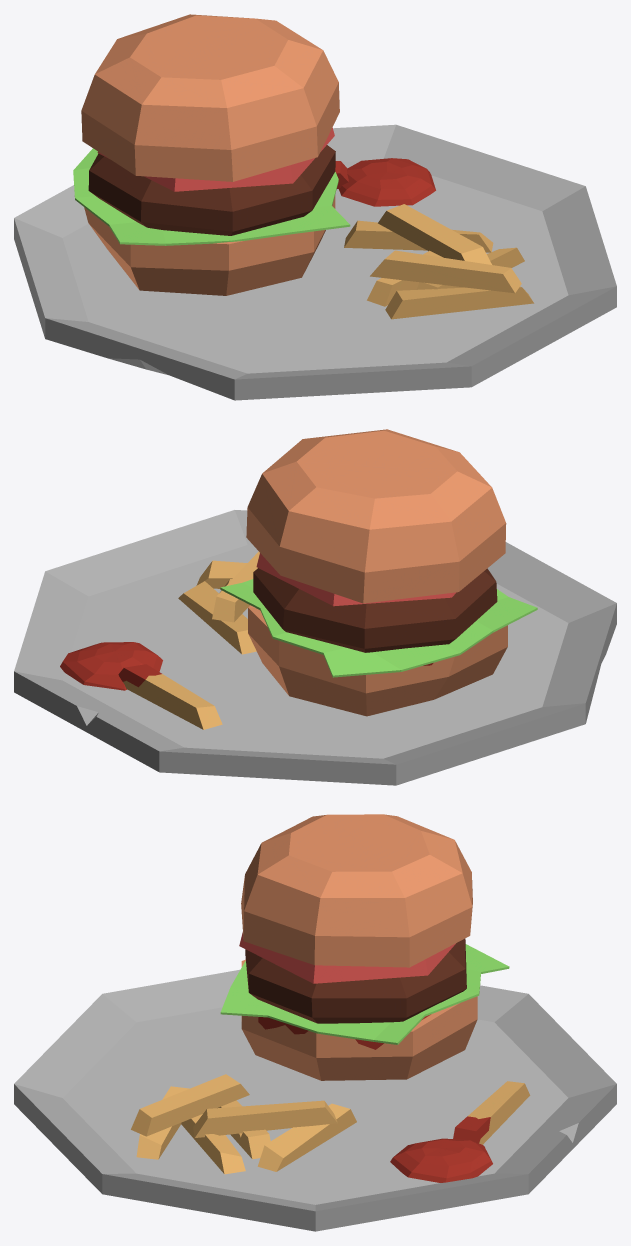
File: plate-burger-meal.glb
3 views of the same model, one above another, from view 1: azimuth 30°, elevation 25°; view 2: azimuth 150°, elevation 25°; view 3: azimuth 270°, elevation 25° (orthographic). The views are drawn at different scales.
Visible parts, largest first — view 1: Plate_Cylinder; view 2: Plate_Cylinder; view 3: Plate_Cylinder.
Boxes of the visible parts, left/top/right/bottom form: Plate_Cylinder: left=14, top=14, right=616, bottom=400; Plate_Cylinder: left=14, top=429, right=616, bottom=785; Plate_Cylinder: left=14, top=814, right=616, bottom=1231.
Size of the model in its own units: 0.4927 by 0.2143 by 0.4927.
Materials: 1 (1 with a texture image).
